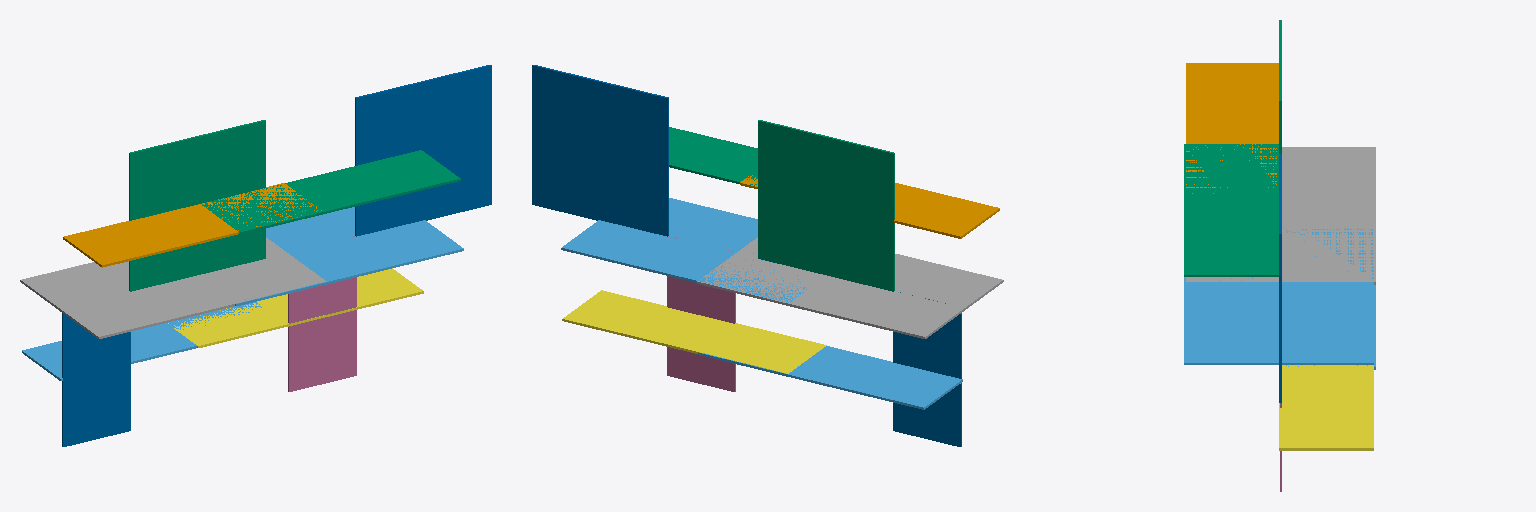
The robot description file, URDF, robot "box":
<?xml version="1.0"?>
<robot name="box">

  <link name="base_link">
    <inertial>
      <origin xyz="0 0 0" rpy="0 0 0"/>
      <mass value="0.001"/>
      <inertia ixx="0.0001" ixy="0.0" ixz="0.0" iyy="0.0001" iyz="0.0" izz="0.0001"/>
    </inertial>
  </link>

  <link name="link_right">
    <visual>   <geometry> <mesh filename="box_base.dae"/> </geometry> </visual> 
    <collision><geometry> <mesh filename="box_base.dae"/> </geometry> </collision>
    <inertial> 
      <origin xyz="0 0 0" rpy="0 0 0"/>
      <mass value="0.1"/> 
      <inertia ixx="0.1" ixy="0" ixz="0" iyy="0.1" iyz="0" izz="0.1"/> 
    </inertial>
  </link>

  <joint name="joint_base_to_right" type="fixed">
    <parent link="base_link"/>
    <child link="link_right"/>
    <origin xyz="0 0 0" rpy="0 0 0"/>
  </joint>

  <link name="link_right_up">
    <visual>   <geometry> <mesh filename="box_right_up.dae"/> </geometry> </visual>
    <collision><geometry> <mesh filename="box_right_up.dae"/> </geometry> </collision>
    <inertial> <mass value="0.01"/> <inertia ixx="0.01" ixy="0" ixz="0" iyy="0.01" iyz="0" izz="0.01"/> </inertial>
  </link>

  <joint name="joint_right_to_up" type="revolute">
    <parent link="link_right"/>
    <child link="link_right_up"/>
    <origin xyz="0 0 0.15" rpy="0 0 0"/> 
    <axis xyz="1 0 0"/> <limit lower="-6.28" upper="6.28" effort="10.0" velocity="1.0"/>
  </joint>

  <link name="link_right_down">
    <visual>   <geometry> <mesh filename="box_right_down.dae"/> </geometry> </visual>
    <collision><geometry> <mesh filename="box_right_down.dae"/> </geometry> </collision>
    <inertial> <mass value="0.01"/> <inertia ixx="0.01" ixy="0" ixz="0" iyy="0.01" iyz="0" izz="0.01"/> </inertial>
  </link>

  <joint name="joint_right_to_down" type="revolute">
    <parent link="link_right"/>
    <child link="link_right_down"/>
    <origin xyz="0 0 -0.15" rpy="0 0 0"/> 
    <axis xyz="1 0 0"/> <limit lower="-6.28" upper="6.28" effort="10.0" velocity="1.0"/>
  </joint>


  <link name="link_front">
    <visual>   <geometry> <mesh filename="box_front.dae"/> </geometry> </visual>
    <collision><geometry> <mesh filename="box_front.dae"/> </geometry> </collision>
    <inertial> <mass value="0.01"/> <inertia ixx="0.01" ixy="0" ixz="0" iyy="0.01" iyz="0" izz="0.01"/> </inertial>
  </link>

  <joint name="joint_right_to_front" type="revolute">
    <parent link="link_right"/>
    <child link="link_front"/>
    <origin xyz="0.25 0.0025 0" rpy="0 0 1.5708"/> 
    <axis xyz="0 0 1"/> <limit lower="-6.28" upper="6.28" effort="10.0" velocity="1.0"/> 
  </joint>

  <link name="link_front_up">
    <visual>   <geometry> <mesh filename="box_front_up.dae"/> </geometry> </visual>
    <collision><geometry> <mesh filename="box_front_up.dae"/> </geometry> </collision>
    <inertial> <mass value="0.01"/> <inertia ixx="0.01" ixy="0" ixz="0" iyy="0.01" iyz="0" izz="0.01"/> </inertial>
  </link>

  <joint name="joint_front_to_up" type="revolute">
    <parent link="link_front"/>
    <child link="link_front_up"/>
    <origin xyz="0 0.1475 0.145" rpy="0 0 0"/>
    <axis xyz="0 1 0"/> <limit lower="-6.28" upper="6.28" effort="10.0" velocity="1.0"/>
  </joint>

  <link name="link_front_down">
    <visual>   <geometry> <mesh filename="box_front_down.dae"/> </geometry> </visual>
    <collision><geometry> <mesh filename="box_front_down.dae"/> </geometry> </collision>
    <inertial> <mass value="0.01"/> <inertia ixx="0.01" ixy="0" ixz="0" iyy="0.01" iyz="0" izz="0.01"/> </inertial>
  </link>

  <joint name="joint_front_to_down" type="revolute">
    <parent link="link_front"/>
    <child link="link_front_down"/>
    <origin xyz="0 0.1475 -0.145" rpy="0 0 0"/>
    <axis xyz="0 1 0"/> <limit lower="-6.28" upper="6.28" effort="10.0" velocity="1.0"/>
  </joint>


  <link name="link_left">
    <visual>   <geometry> <mesh filename="box_left.dae"/> </geometry> </visual>
    <collision><geometry> <mesh filename="box_left.dae"/> </geometry> </collision>
    <inertial> <mass value="0.01"/> <inertia ixx="0.01" ixy="0" ixz="0" iyy="0.01" iyz="0" izz="0.01"/> </inertial>
  </link>

  <joint name="joint_front_to_left" type="revolute">
    <parent link="link_front"/>
    <child link="link_left"/>
    <origin xyz="0 0.3 0" rpy="0 0 -1.5708"/> 
    <axis xyz="0 0 1"/> <limit lower="-6.28" upper="6.28" effort="10.0" velocity="1.0"/>
  </joint>

  <link name="link_left_up">
    <visual>   <geometry> <mesh filename="box_left_up.dae"/> </geometry> </visual>
    <collision><geometry> <mesh filename="box_left_up.dae"/> </geometry> </collision>
    <inertial> <mass value="0.01"/> <inertia ixx="0.01" ixy="0" ixz="0" iyy="0.01" iyz="0" izz="0.01"/> </inertial>
  </link>

  <joint name="joint_left_to_up" type="revolute">
    <parent link="link_left"/>
    <child link="link_left_up"/>
    <origin xyz="-0.2525 0 0.15" rpy="0 0 0"/>
    <axis xyz="1 0 0"/> <limit lower="-6.28" upper="6.28" effort="10.0" velocity="1.0"/>
  </joint>

  <link name="link_left_down">
    <visual>   <geometry> <mesh filename="box_left_down.dae"/> </geometry> </visual>
    <collision><geometry> <mesh filename="box_left_down.dae"/> </geometry> </collision>
    <inertial> <mass value="0.01"/> <inertia ixx="0.01" ixy="0" ixz="0" iyy="0.01" iyz="0" izz="0.01"/> </inertial>
  </link>

  <joint name="joint_left_to_down" type="revolute">
    <parent link="link_left"/>
    <child link="link_left_down"/>
    <origin xyz="-0.2525 0 -0.15" rpy="0 0 0"/>
    <axis xyz="1 0 0"/> <limit lower="-6.28" upper="6.28" effort="10.0" velocity="1.0"/>
  </joint>


  <link name="link_back">
    <visual>   <geometry> <mesh filename="box_back.dae"/> </geometry> </visual>
    <collision><geometry> <mesh filename="box_back.dae"/> </geometry> </collision>
    <inertial> <mass value="0.01"/> <inertia ixx="0.01" ixy="0" ixz="0" iyy="0.01" iyz="0" izz="0.01"/> </inertial>
  </link>

  <joint name="joint_right_to_back" type="revolute">
    <parent link="link_right"/>
    <child link="link_back"/>
    <origin xyz="-0.25 0.0025 0" rpy="0 0 1.5708"/> 
    <axis xyz="0 0 1"/> <limit lower="-6.28" upper="6.28" effort="10.0" velocity="1.0"/>
  </joint>

  <link name="link_back_up">
    <visual>   <geometry> <mesh filename="box_back_up.dae"/> </geometry> </visual>
    <collision><geometry> <mesh filename="box_back_up.dae"/> </geometry> </collision>
    <inertial> <mass value="0.01"/> <inertia ixx="0.01" ixy="0" ixz="0" iyy="0.01" iyz="0" izz="0.01"/> </inertial>
  </link>

  <joint name="joint_back_to_up" type="revolute">
    <parent link="link_back"/>
    <child link="link_back_up"/>
    <origin xyz="0 0.1475 0.145" rpy="0 0 0"/>
    <axis xyz="0 1 0"/> <limit lower="-6.28" upper="6.28" effort="10.0" velocity="1.0"/>
  </joint>

  <link name="link_back_down">
    <visual>   <geometry> <mesh filename="box_back_down.dae"/> </geometry> </visual>
    <collision><geometry> <mesh filename="box_back_down.dae"/> </geometry> </collision>
    <inertial> <mass value="0.01"/> <inertia ixx="0.01" ixy="0" ixz="0" iyy="0.01" iyz="0" izz="0.01"/> </inertial>
  </link>

  <joint name="joint_back_to_down" type="revolute">
    <parent link="link_back"/>
    <child link="link_back_down"/>
    <origin xyz="0 0.1475 -0.145" rpy="0 0 0"/>
    <axis xyz="0 1 0"/> <limit lower="-6.28" upper="6.28" effort="10.0" velocity="1.0"/>
  </joint>

</robot>

--- What the picture shows (computed from the rendered views, not written in the file) ---
Views: 3 orthographic renders of the robot side by side, from view 1: azimuth 30°, elevation 25°; view 2: azimuth 150°, elevation 25°; view 3: azimuth 270°, elevation 25°.
Model box with 13 links and 12 joints (11 revolute, 1 fixed), rooted at base_link, posed every joint at zero.
Links seen in each view (by area): view 1: link_front, link_back, link_left, link_right, link_right_up, link_back_down, link_front_down, link_left_up, link_right_down, link_left_down; view 2: link_front, link_back, link_left, link_right, link_right_down, link_left_down, link_back_down, link_front_down, link_left_up, link_right_up; view 3: link_right, link_left, link_right_up, link_right_down, link_left_up, link_front.
Link boxes in pixels (x1=…): link_front: x1=355, y1=65, x2=491, y2=236; link_back: x1=129, y1=120, x2=265, y2=291; link_left: x1=20, y1=237, x2=326, y2=338; link_right: x1=235, y1=207, x2=463, y2=305; link_right_up: x1=202, y1=150, x2=460, y2=234; link_back_down: x1=62, y1=313, x2=130, y2=446; link_front_down: x1=288, y1=236, x2=356, y2=391; link_left_up: x1=63, y1=183, x2=321, y2=267; link_right_down: x1=168, y1=268, x2=423, y2=347; link_left_down: x1=22, y1=302, x2=261, y2=380; link_front: x1=532, y1=65, x2=668, y2=236; link_back: x1=758, y1=120, x2=894, y2=291; link_left: x1=697, y1=237, x2=1003, y2=338; link_right: x1=561, y1=198, x2=806, y2=302; link_right_down: x1=562, y1=290, x2=826, y2=373; link_left_down: x1=698, y1=346, x2=962, y2=409; link_back_down: x1=893, y1=292, x2=961, y2=446; link_front_down: x1=667, y1=236, x2=735, y2=391; link_left_up: x1=740, y1=175, x2=999, y2=238; link_right_up: x1=669, y1=127, x2=757, y2=185; link_right: x1=1184, y1=228, x2=1373, y2=364; link_left: x1=1186, y1=147, x2=1375, y2=284; link_right_up: x1=1184, y1=144, x2=1278, y2=276; link_right_down: x1=1279, y1=365, x2=1373, y2=450; link_left_up: x1=1186, y1=63, x2=1278, y2=193; link_front: x1=1279, y1=154, x2=1281, y2=402.
Bounding box of the posed robot: 0.955 × 0.3025 × 0.5875 m (x, y, z).
12 mesh visuals loaded from 12 distinct referenced files (12 Collada DAE).
